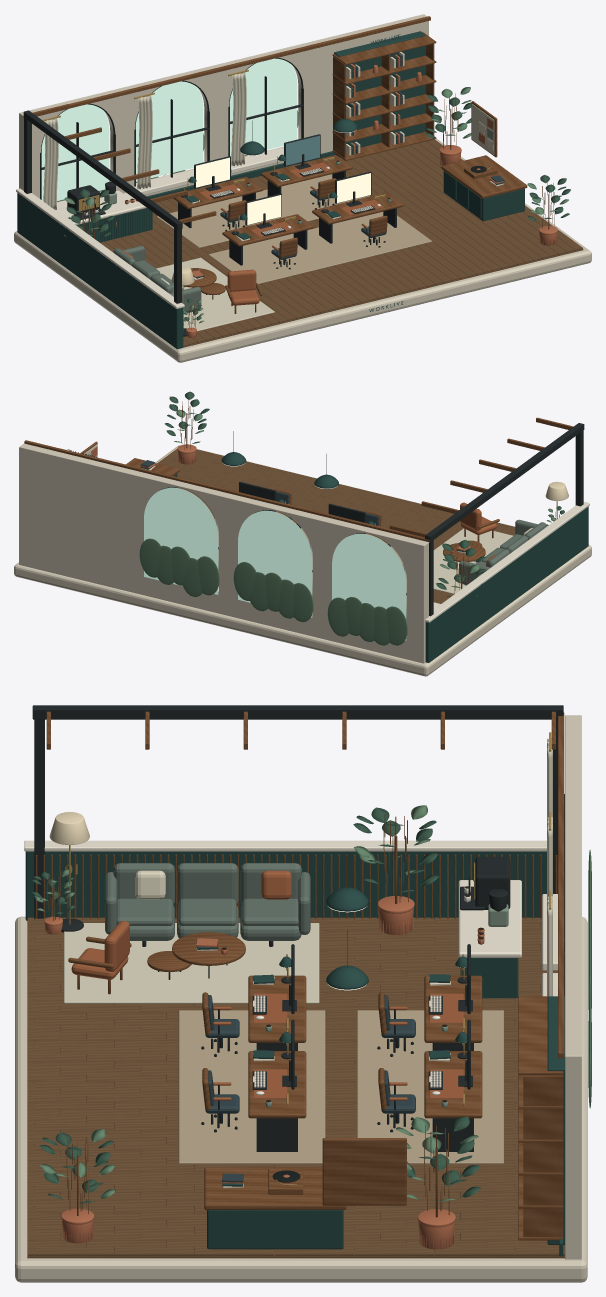
File: studio.glb
3 renders of one model, top to bottom at view 1: azimuth 30°, elevation 25°; view 2: azimuth 150°, elevation 25°; view 3: azimuth 270°, elevation 25°, orthographic. The views are drawn at different scales.
Visible parts, largest first — view 1: Floor substrate, Architectural plinth, Acoustic oak rib, Inset foundation, Woven workspace rug, Steel window upright, Linen curtain, WindowView_-1.76, Stone window sill, WindowView_1.28, WindowView_-4.8, Ficus leaf (+11 smaller); view 2: Architectural plinth, Distant garden, Floor substrate, Inset foundation, WindowView_-4.8, Acoustic oak rib, WindowView_-1.76, WindowView_1.28, Steel window upright, Linen curtain, Stone window sill, Sofa module (+3 smaller); view 3: Floor substrate, Acoustic oak rib, Architectural plinth, Inset foundation, Woven workspace rug, Steel window upright, Linen curtain, Sofa module, Stone window sill, Book.010, Ficus leaf, Leather desk mat (+3 smaller).
Boxes of the visible parts, bbox=[...] form: Floor substrate: bbox=[100, 57, 583, 347]; Architectural plinth: bbox=[14, 14, 591, 362]; Acoustic oak rib: bbox=[32, 16, 554, 329]; Inset foundation: bbox=[17, 31, 524, 349]; Woven workspace rug: bbox=[156, 174, 432, 284]; Steel window upright: bbox=[23, 58, 396, 336]; Linen curtain: bbox=[43, 52, 494, 331]; WindowView_-1.76: bbox=[135, 81, 203, 181]; Stone window sill: bbox=[16, 147, 380, 308]; WindowView_1.28: bbox=[229, 58, 297, 158]; WindowView_-4.8: bbox=[41, 104, 109, 200]; Ficus leaf: bbox=[66, 94, 570, 324]; Architectural plinth: bbox=[14, 443, 591, 676]; Distant garden: bbox=[139, 393, 558, 645]; Floor substrate: bbox=[157, 448, 515, 603]; Inset foundation: bbox=[67, 449, 588, 662]; WindowView_-4.8: bbox=[332, 533, 406, 640]; Acoustic oak rib: bbox=[24, 399, 573, 593]; WindowView_-1.76: bbox=[238, 510, 312, 617]; WindowView_1.28: bbox=[144, 487, 218, 594]; Steel window upright: bbox=[159, 423, 584, 616]; Linen curtain: bbox=[84, 444, 532, 621]; Stone window sill: bbox=[218, 502, 589, 638]; Sofa module: bbox=[459, 519, 546, 585]; Floor substrate: bbox=[27, 917, 564, 1258]; Acoustic oak rib: bbox=[35, 711, 564, 1240]; Architectural plinth: bbox=[15, 715, 587, 1282]; Inset foundation: bbox=[25, 851, 564, 1256]; Woven workspace rug: bbox=[178, 1010, 503, 1163]; Steel window upright: bbox=[32, 705, 564, 1151]; Linen curtain: bbox=[64, 738, 552, 1003]; Sofa module: bbox=[105, 863, 310, 940]; Stone window sill: bbox=[24, 840, 557, 1095]; Book.010: bbox=[44, 896, 484, 1250]; Ficus leaf: bbox=[32, 807, 480, 1203]; Leather desk mat: bbox=[253, 870, 463, 1098].
Bounding box in the file's own units: 13.45 × 4.27 × 9.39.
Materials: 34 (2 with a texture image).
